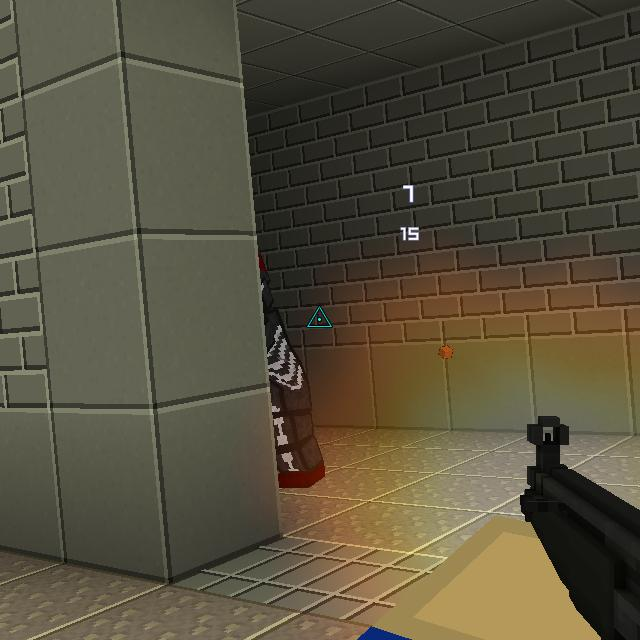enemy: (254, 243, 328, 487)
